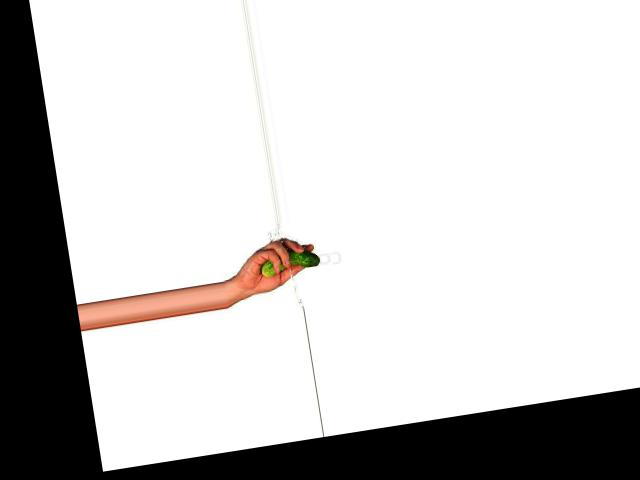cucumber: (258, 246, 321, 276)
